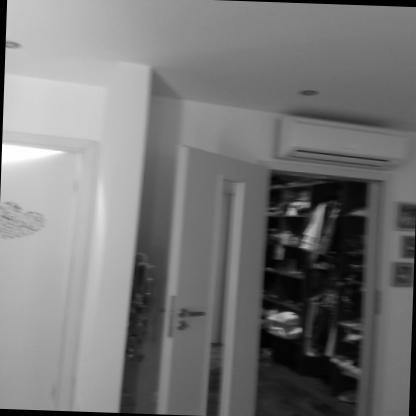closed: (0, 119, 110, 411)
open: (182, 136, 408, 416)
